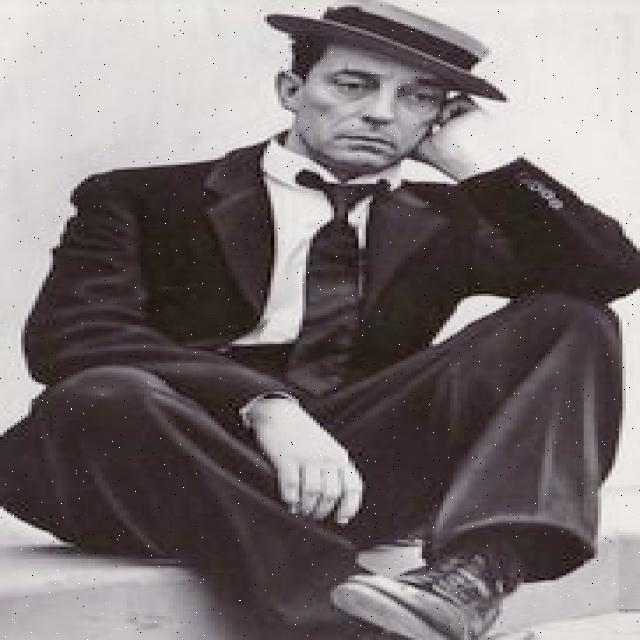picture: (34, 2, 624, 590)
